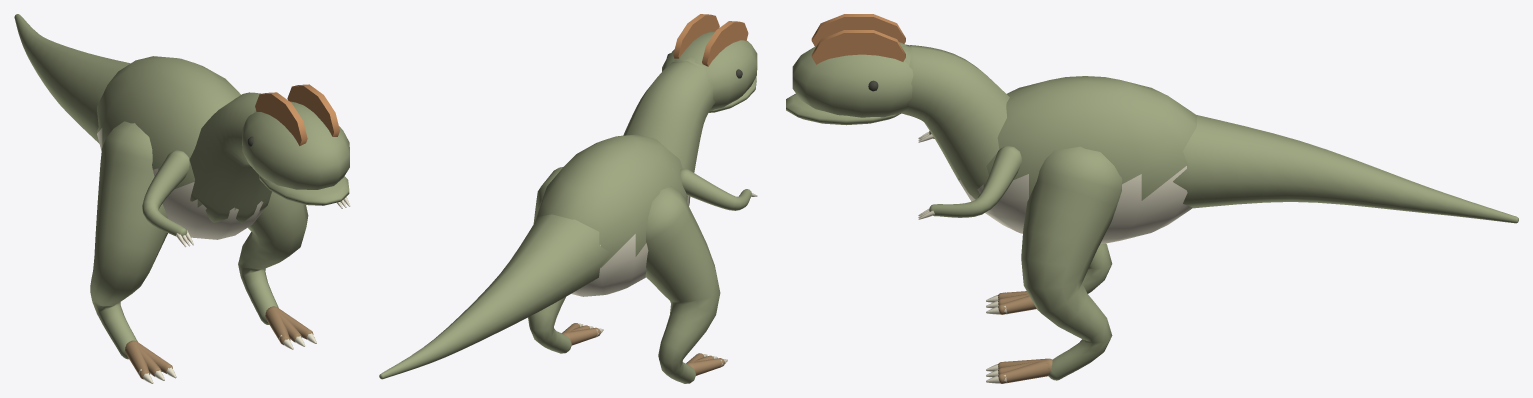
The model's file is dilophosaurus.glb.
The picture shows the model from 3 angles, left to right: view 1: azimuth 30°, elevation 25°; view 2: azimuth 150°, elevation 25°; view 3: azimuth 270°, elevation 25°; orthographic projection. The views are drawn at different scales.
Parts seen in each view (by area): view 1: dilophosaurus; view 2: dilophosaurus; view 3: dilophosaurus.
Part boxes in pixels (x1=…): dilophosaurus: x1=14, y1=14, x2=350, y2=383; dilophosaurus: x1=379, y1=14, x2=757, y2=383; dilophosaurus: x1=786, y1=14, x2=1518, y2=383.
Size of the model in its own units: 1.95 by 2.9 by 6.
